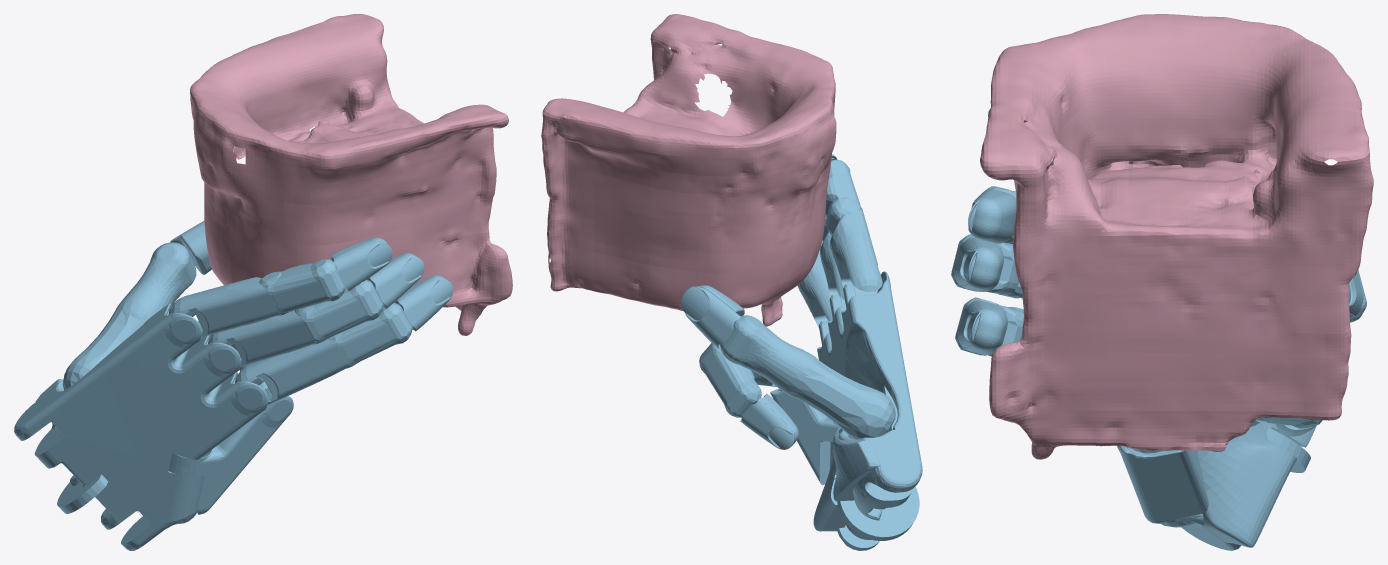
The picture shows the model from 3 angles, left to right: view 1: azimuth 30°, elevation 25°; view 2: azimuth 150°, elevation 25°; view 3: azimuth 270°, elevation 25°; orthographic projection. The views are drawn at different scales.
Visible parts, largest first — view 1: hand, world; view 2: world, hand; view 3: world, hand.
Boxes of the visible parts, x1,y1,x2,y2 form: hand: [14, 221, 452, 550]; world: [190, 14, 512, 335]; world: [541, 14, 836, 326]; hand: [680, 154, 922, 550]; world: [980, 14, 1373, 459]; hand: [951, 186, 1366, 550].
Bounding box in the file's own units: 0.1996 × 0.214 × 0.1397.
